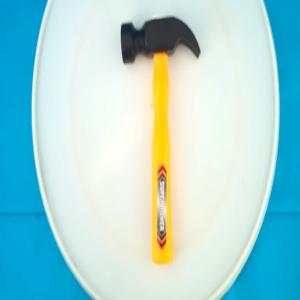martelo: (120, 15, 202, 266)
